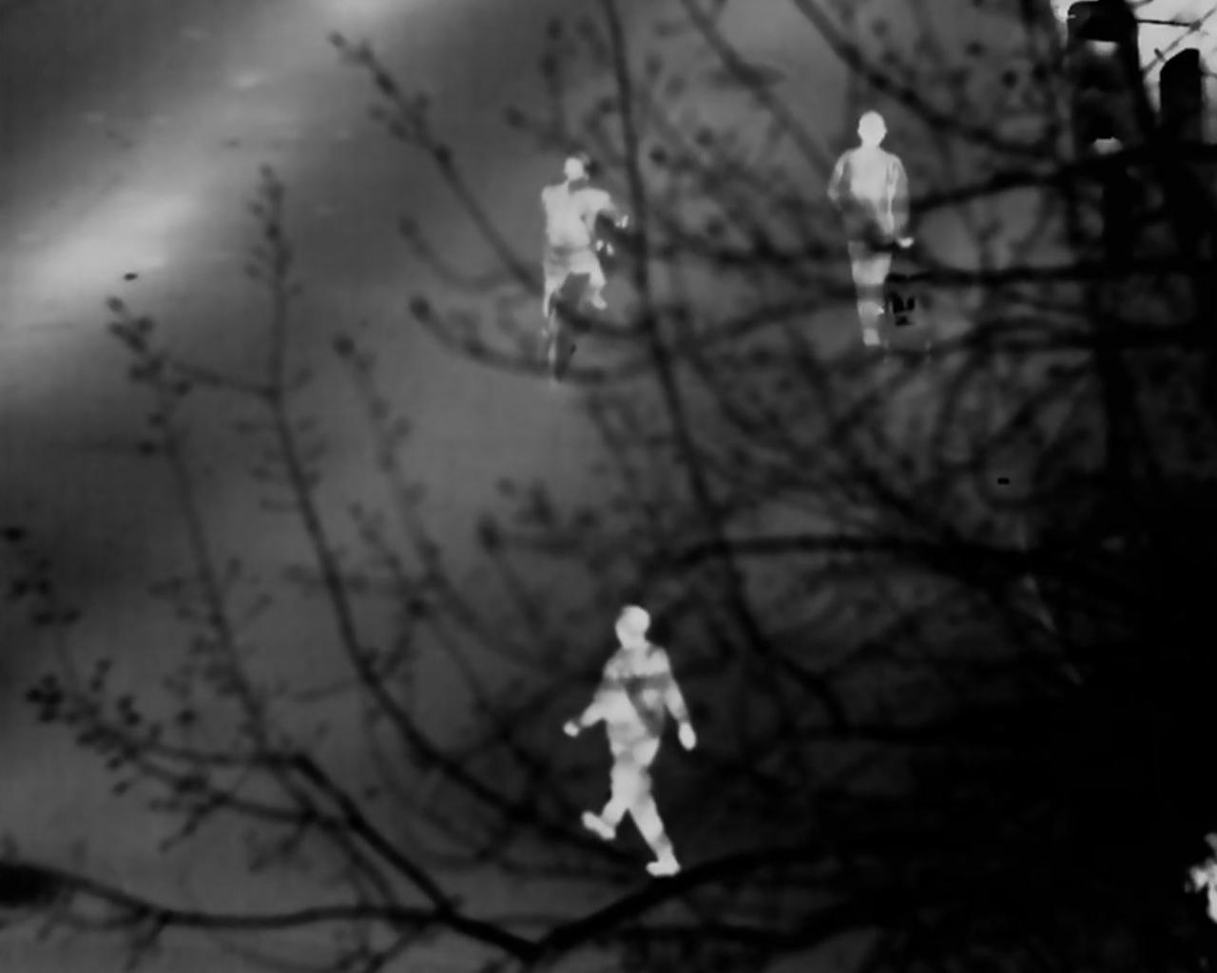person: (564, 604, 703, 868), (823, 111, 921, 345), (536, 156, 630, 362)
